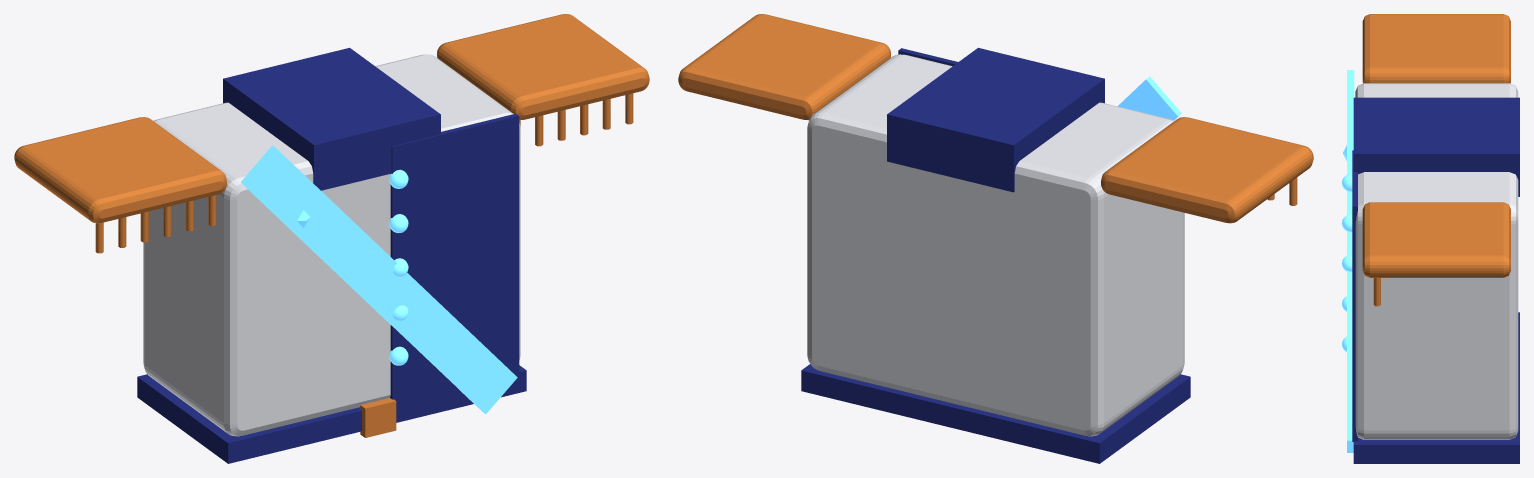
The model's file is eqf_eqen3.glb.
3 views of the same model, side by side, from view 1: azimuth 30°, elevation 25°; view 2: azimuth 150°, elevation 25°; view 3: azimuth 270°, elevation 25° (orthographic). The views are drawn at different scales.
Size of the model in its own units: 3.98 by 2.15 by 1.2.
